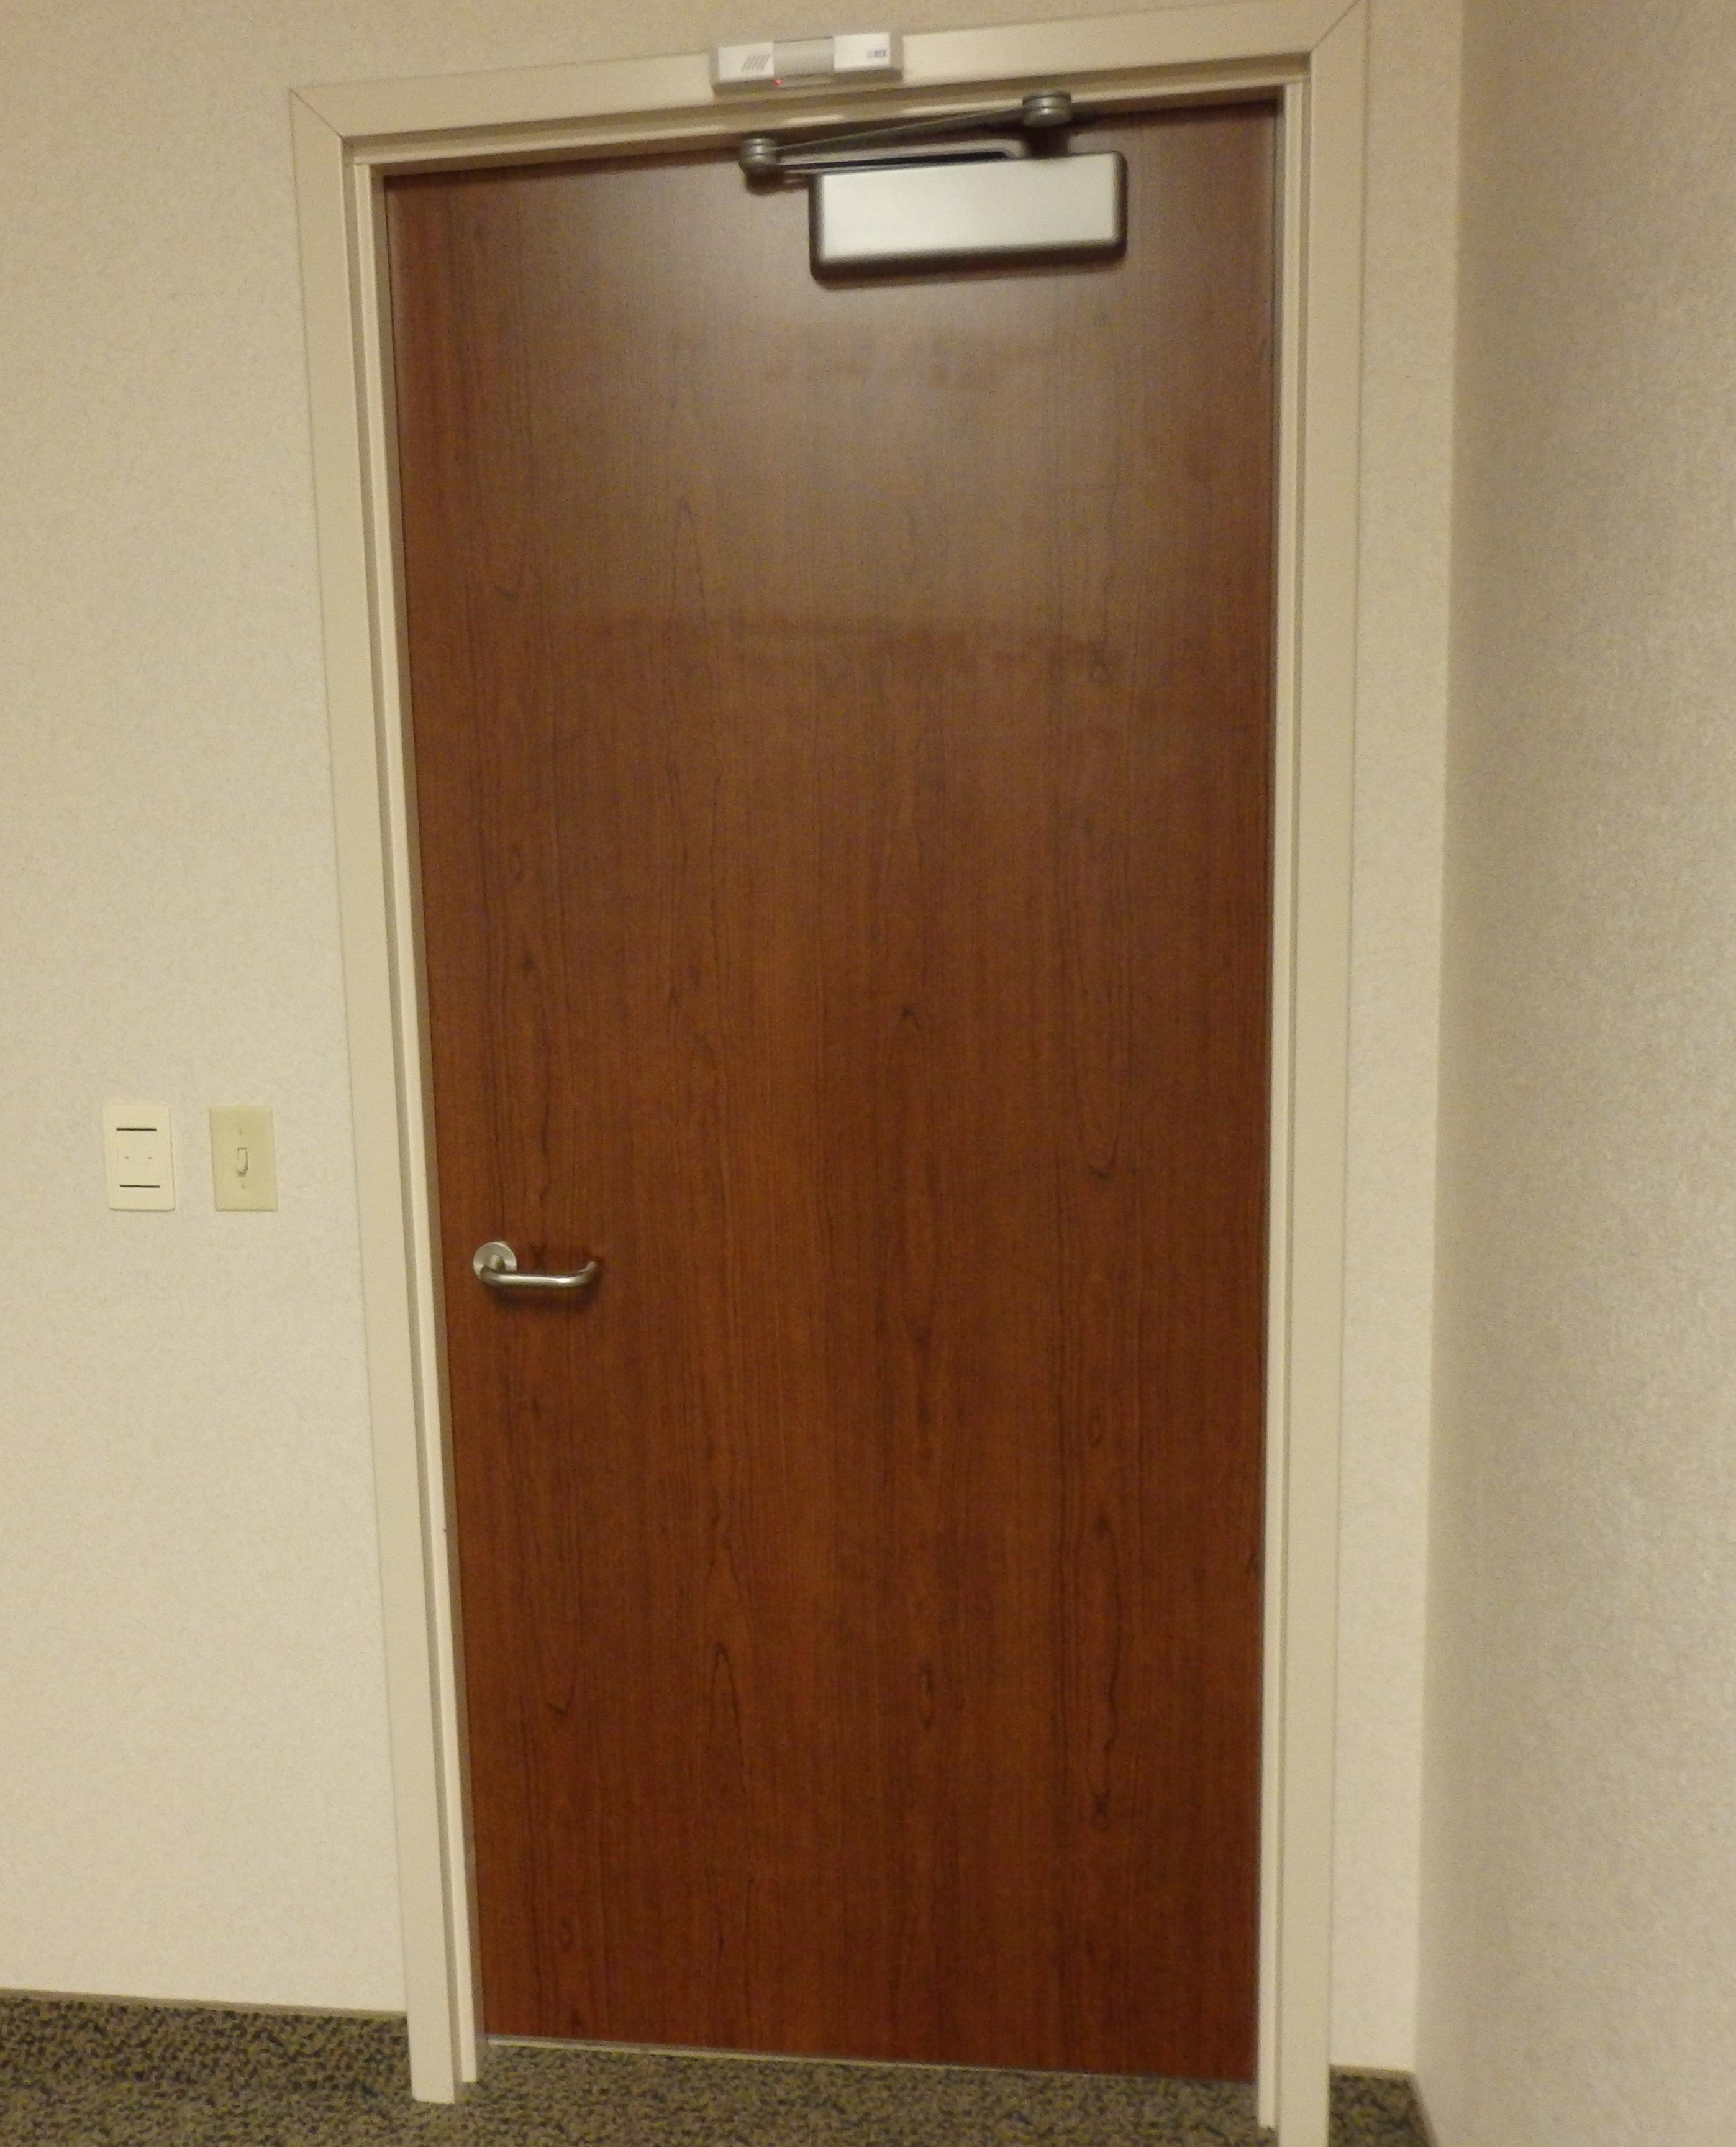door: (367, 105, 1284, 2092)
